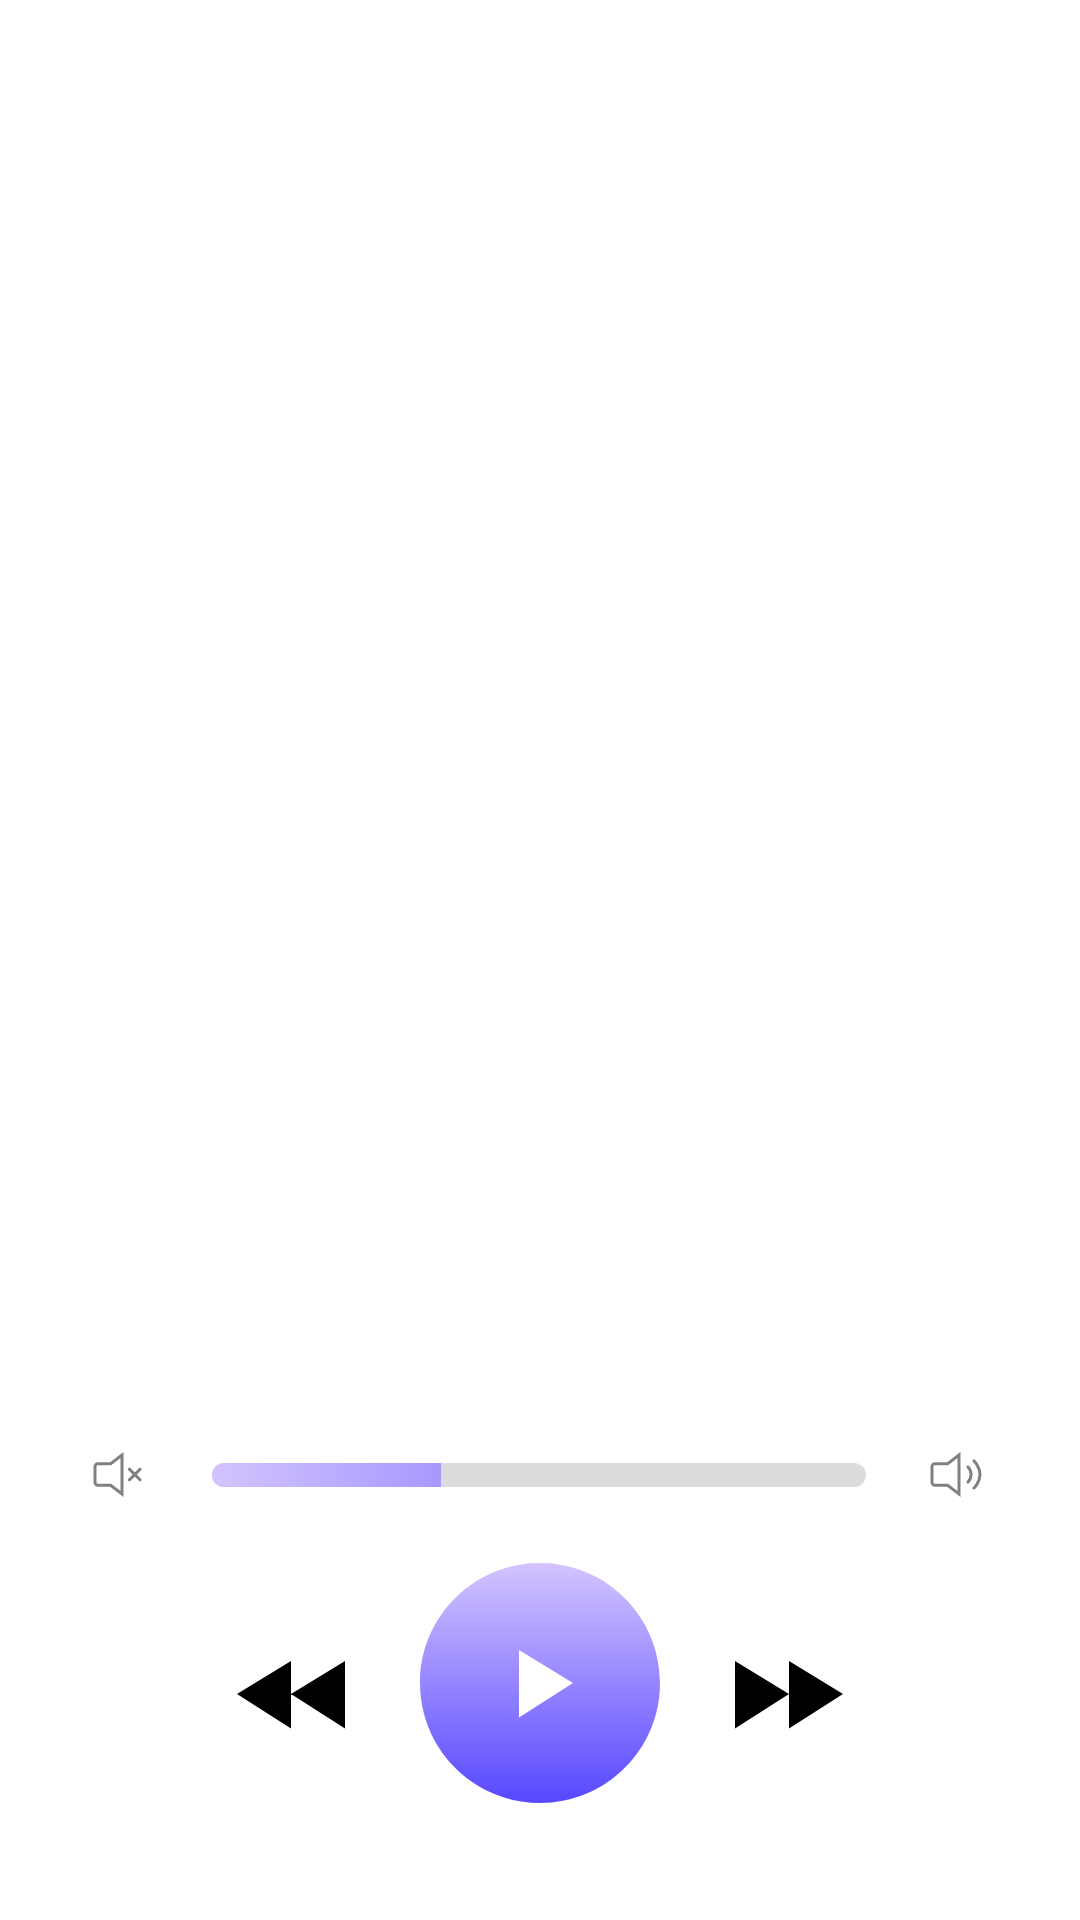

Where icons sit on this 1080px×1920px app screen, as detection(x1, y1, x2, y2):
next track: detection(735, 1661, 843, 1729)
play: detection(420, 1563, 660, 1803)
previous track: detection(237, 1661, 345, 1729)
volume off: detection(93, 1452, 142, 1497)
volume on: detection(930, 1452, 982, 1497)
